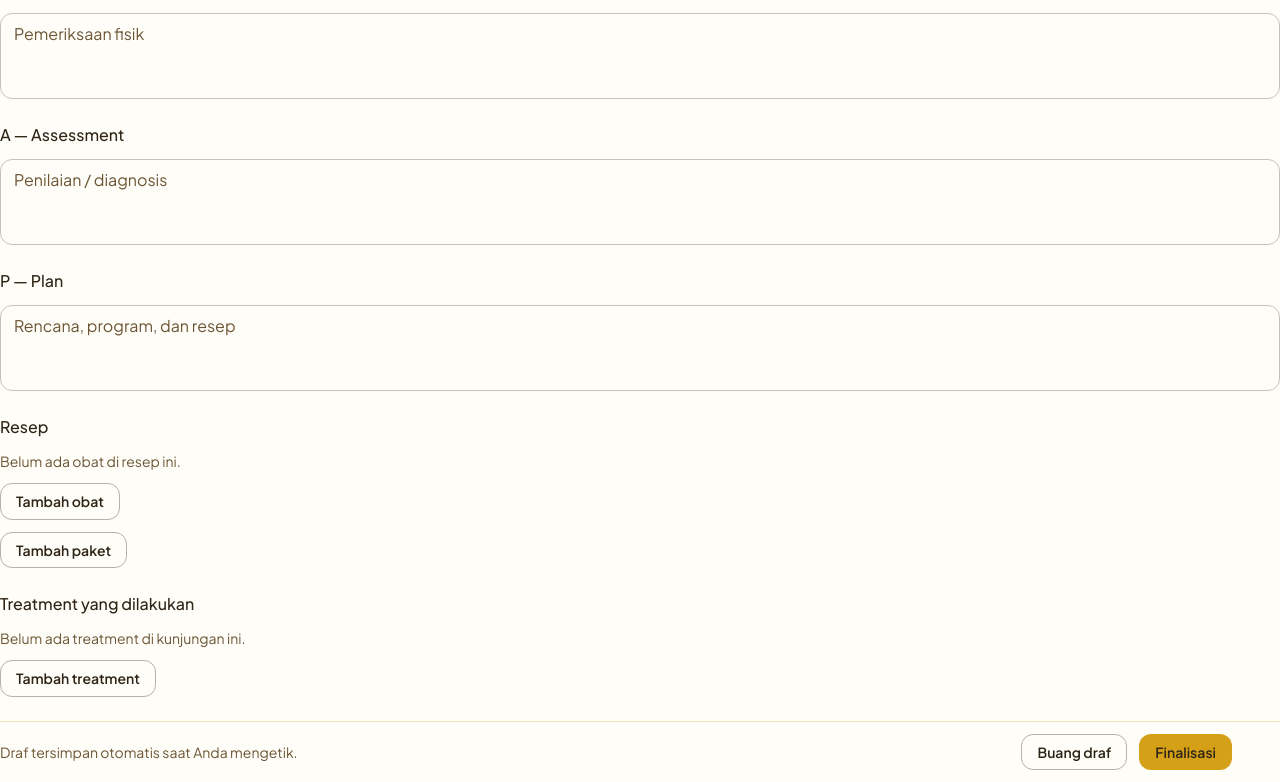
Test case: EncounterForm › treatment baru memakai layanan booking sebagai usulan; tanpa Pelaksana (spec aturan pakai PL1)
(page scrolled)
Click the button "Tambah treatment".
click(78, 678)  # box x1=0 y1=660 x2=156 y2=696
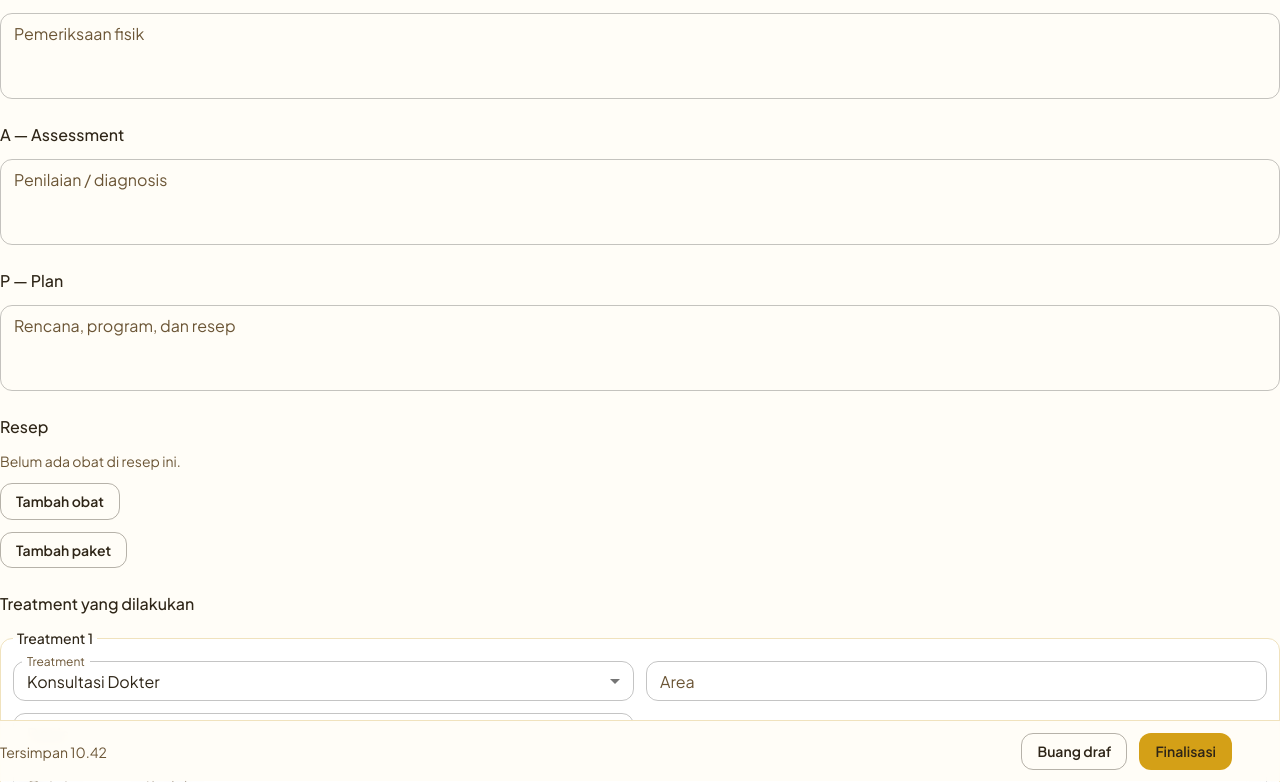
Result: the dropdown labelled "Treatment" shows "Konsultasi Dokter"
Select "Meso" in the dropdown labelled "Treatment" at [324, 681], box x1=13 y1=661 x2=634 y2=701
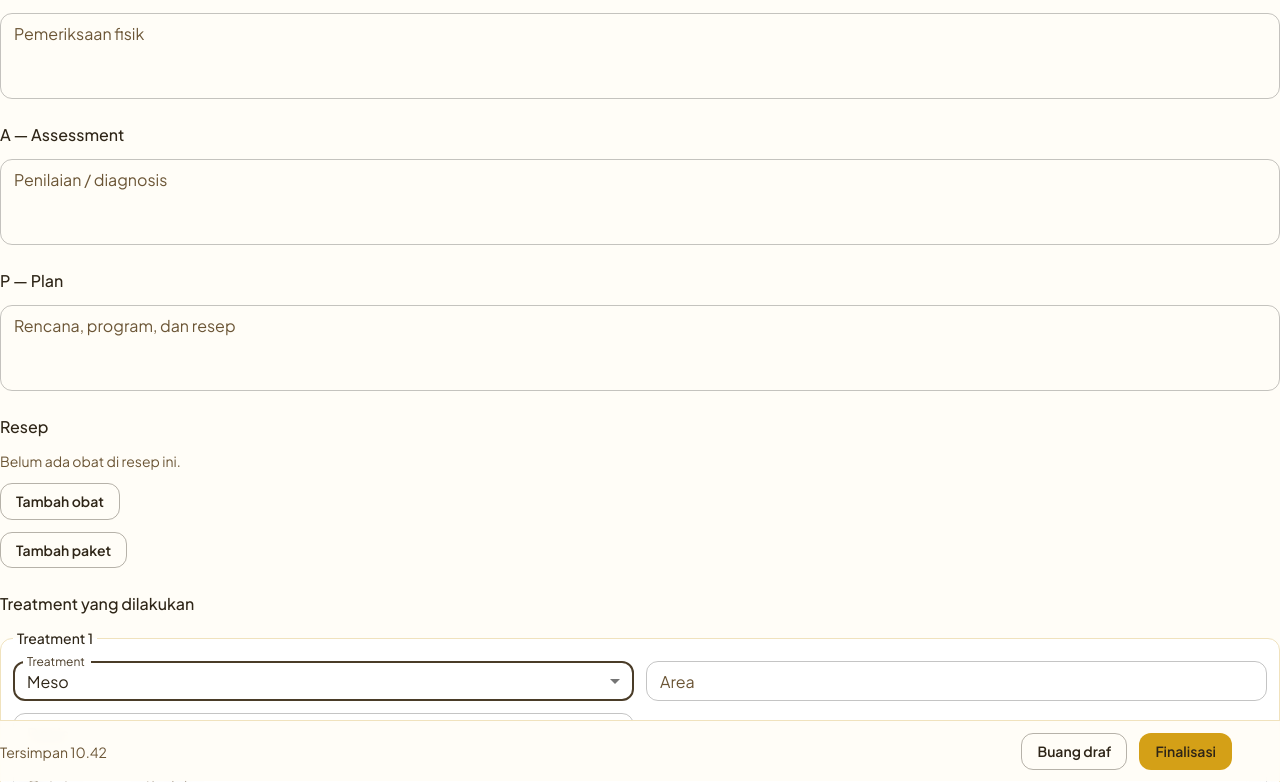
Type "Perut" into the field labelled "Area".
click(956, 681); type("Perut")  # box x1=646 y1=661 x2=1267 y2=701
(page scrolled)
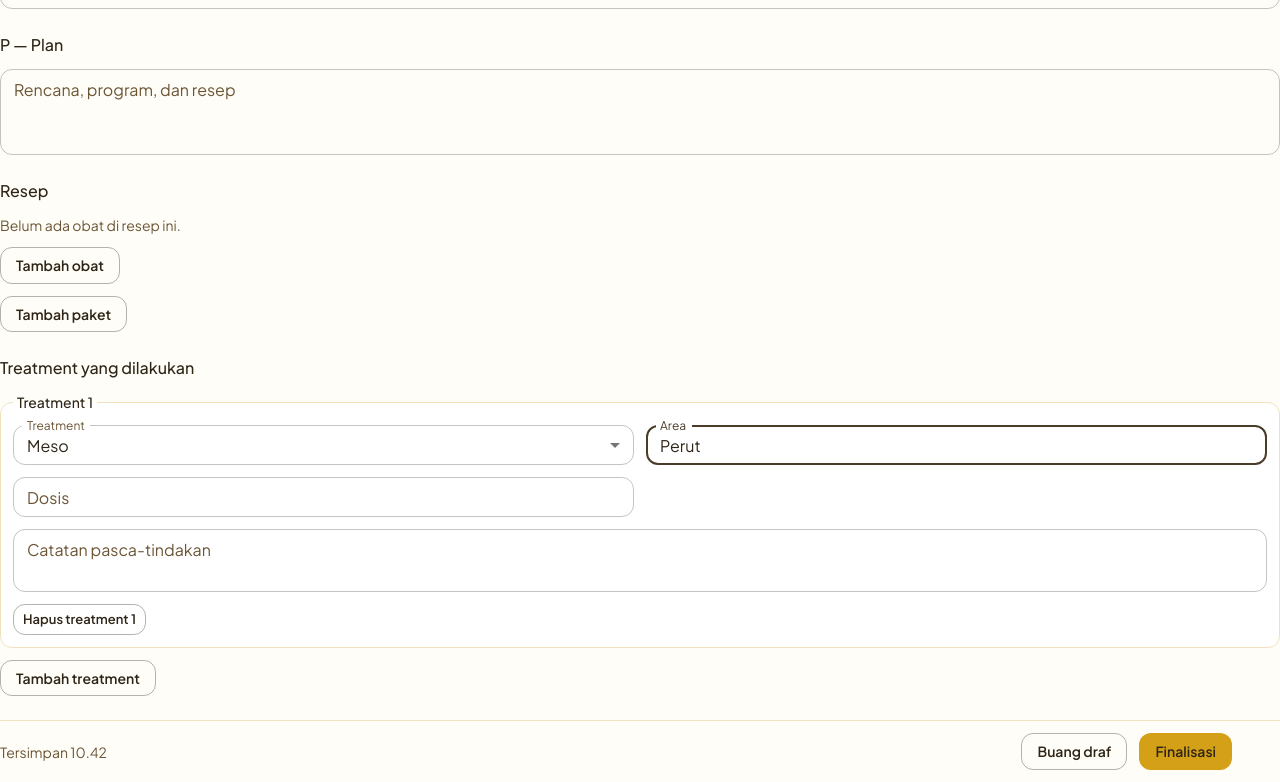
Click the button "Hapus treatment 1".
click(80, 619)  # box x1=13 y1=604 x2=146 y2=635
(page scrolled)
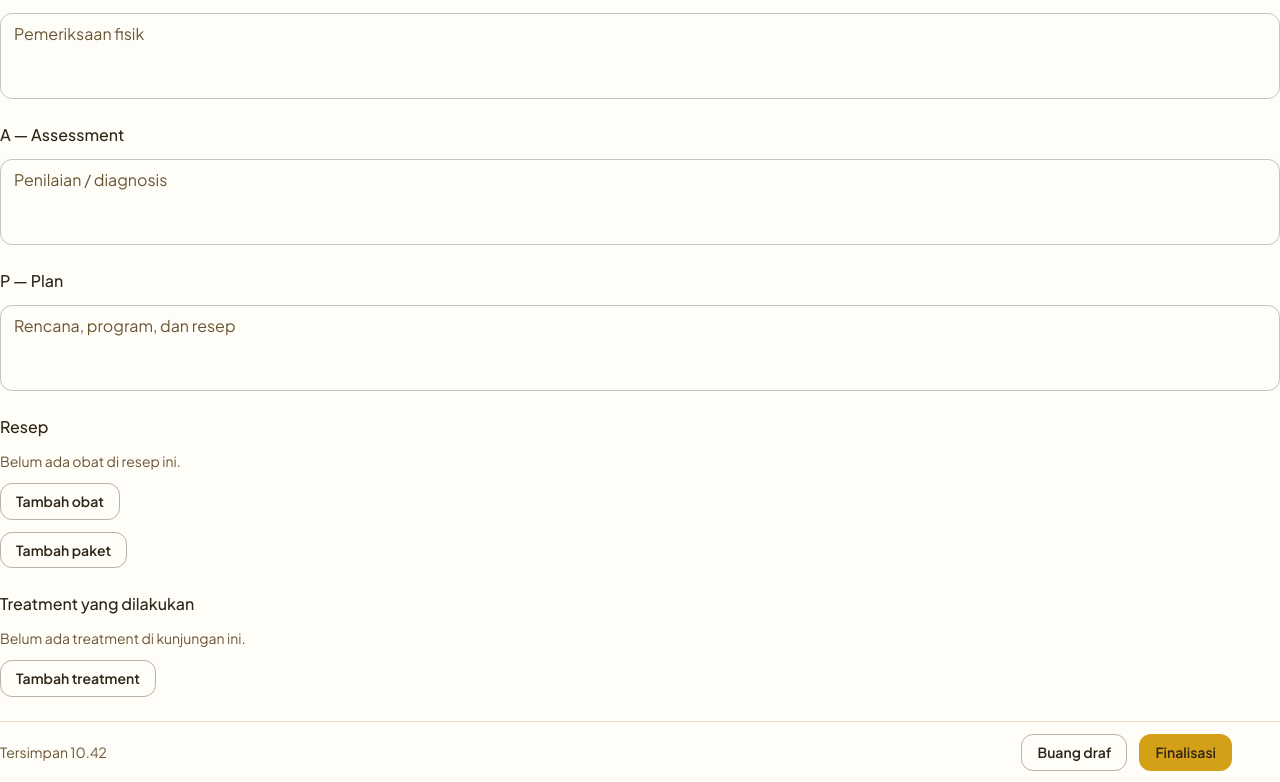
Result: the text "Treatment 1" is gone
